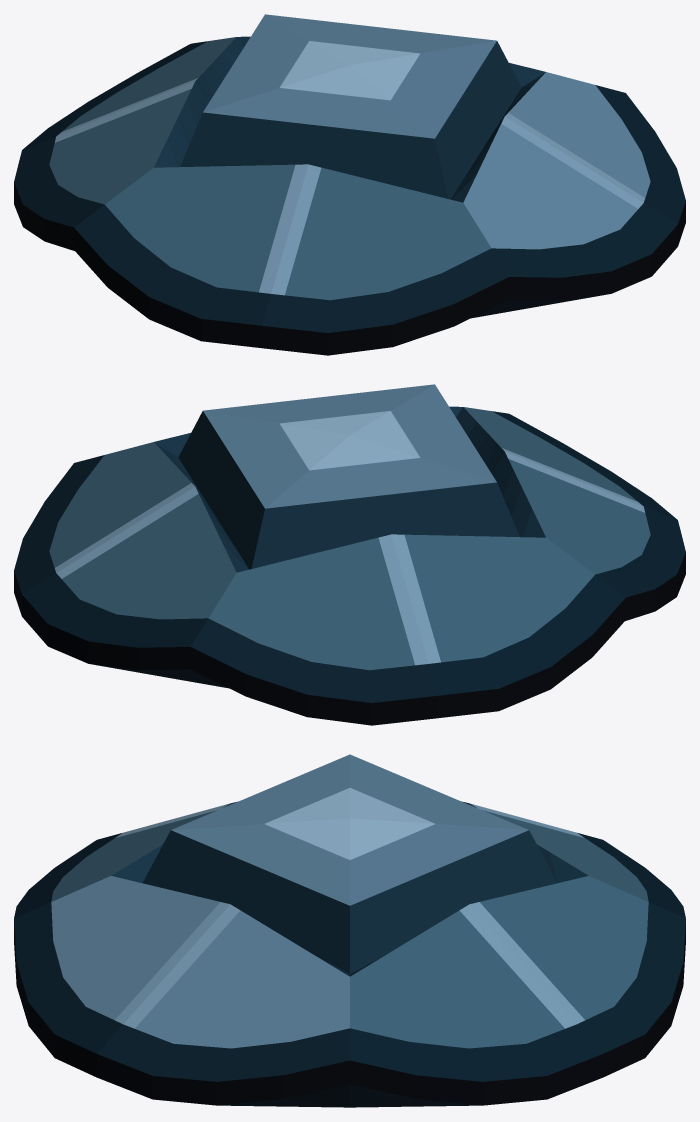
Rendered from facet_orb_157.glb.
3 renders of one model, top to bottom at view 1: azimuth 30°, elevation 25°; view 2: azimuth 150°, elevation 25°; view 3: azimuth 270°, elevation 25°, orthographic. The views are drawn at different scales.
Parts seen in each view (by area): view 1: facet_orb; view 2: facet_orb; view 3: facet_orb.
Part boxes in pixels (<box>): facet_orb: <box>14,14,685,355</box>; facet_orb: <box>14,384,685,725</box>; facet_orb: <box>14,754,685,1107</box>.
Size of the model in its own units: 18 by 8.55 by 18.
